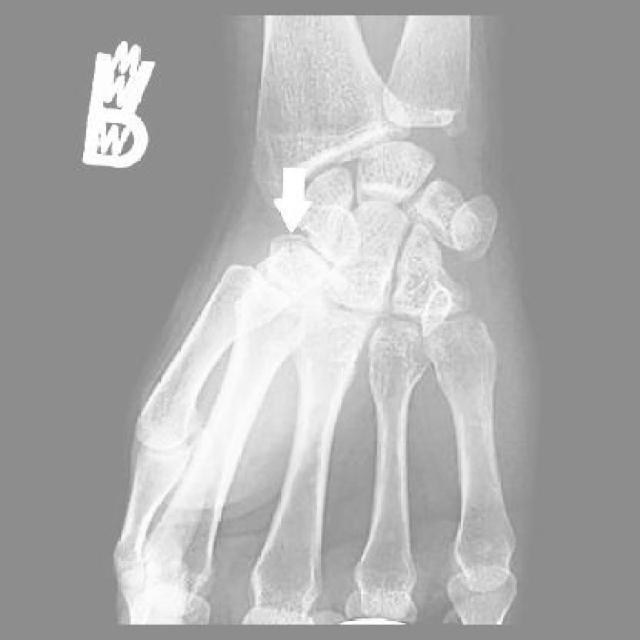Fracture: (271, 238, 317, 292)
